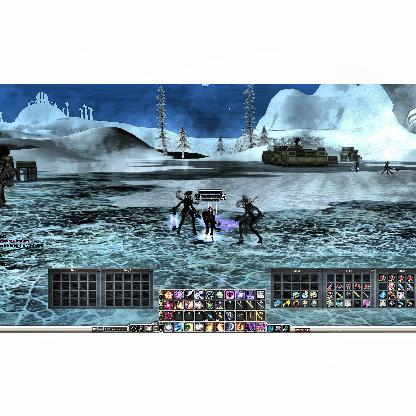caliana: (233, 192, 265, 244), (171, 189, 195, 235), (381, 160, 399, 172), (349, 159, 359, 171)
